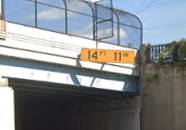1: (111, 50, 118, 62), (85, 49, 91, 61), (117, 50, 122, 62)
overheadsign: (80, 48, 135, 65)
